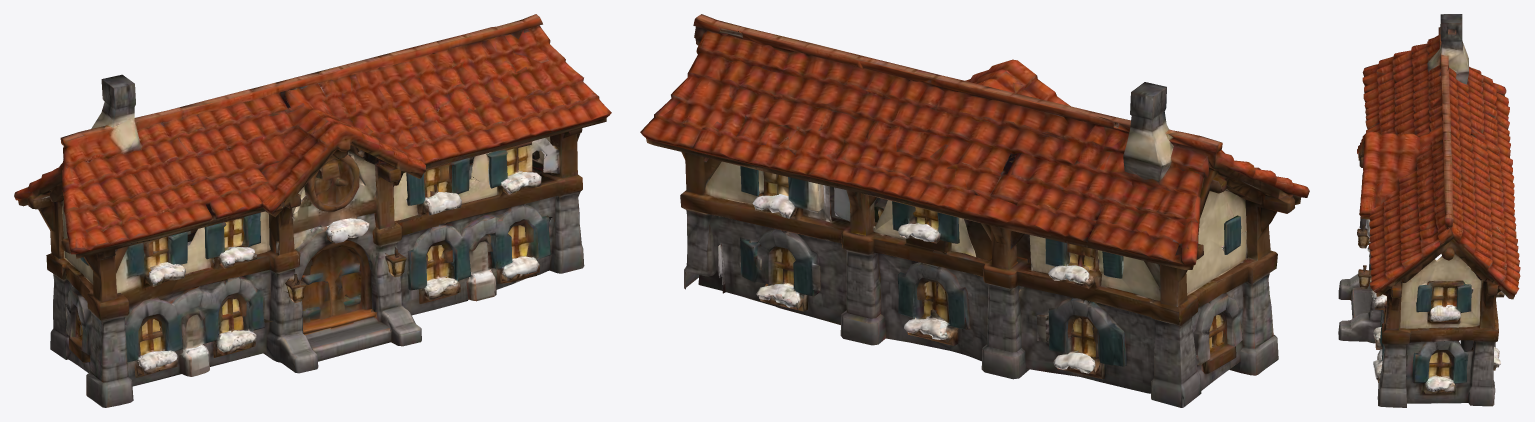
File: candidate.glb
3 views of the same model, side by side, from view 1: azimuth 30°, elevation 25°; view 2: azimuth 150°, elevation 25°; view 3: azimuth 270°, elevation 25° (orthographic). The views are drawn at different scales.
Parts seen in each view (by area): view 1: alpine__finance_1__native_mobile; view 2: alpine__finance_1__native_mobile; view 3: alpine__finance_1__native_mobile.
Boxes of the visible parts, x1,y1,x2,y2 form: alpine__finance_1__native_mobile: (14,14,611,407); alpine__finance_1__native_mobile: (640,14,1309,407); alpine__finance_1__native_mobile: (1338,14,1520,407).
Size of the model in its own units: 1 by 0.4831 by 0.3456.
1 material, 1 textured.
